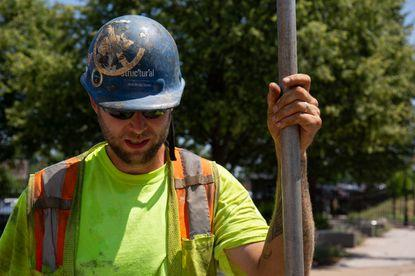helmet: (82, 15, 189, 111)
